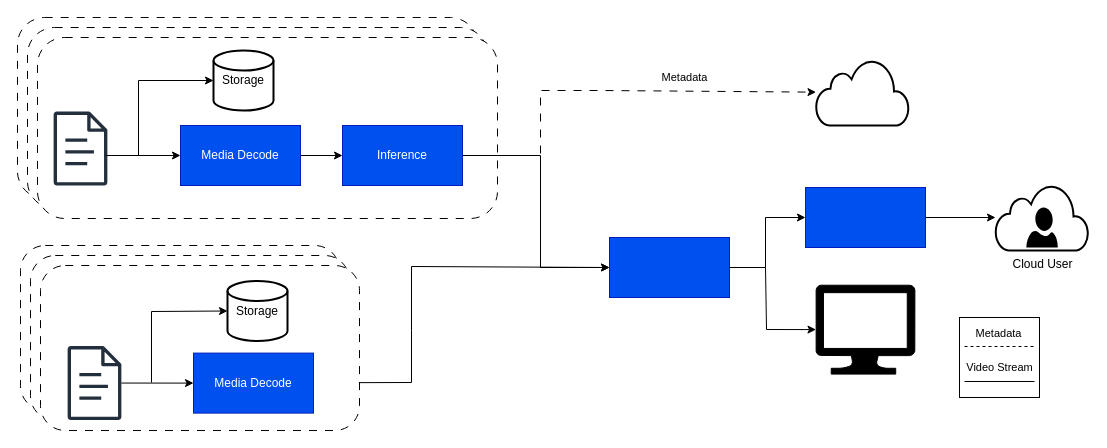
Image size: 1107x448. Some labels were removed from this diagram. Here are the shapes that lost their labels. From the top down, the centre of each, then its label:
point (862, 92): MQTT
point (865, 217): Media Encode
point (669, 267): Multi-view Composition
